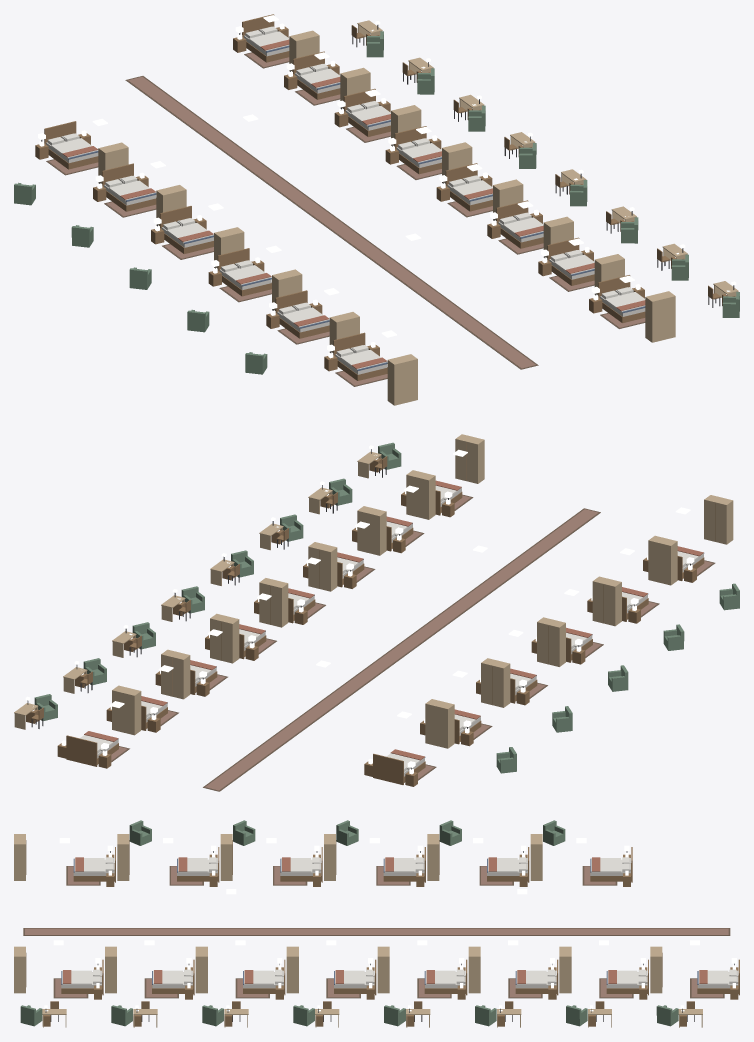
File: fine-s1.glb
3 renders of one model, top to bottom at view 1: azimuth 30°, elevation 25°; view 2: azimuth 150°, elevation 25°; view 3: azimuth 270°, elevation 25°, orthographic. The views are drawn at different scales.
Visible parts, largest first — view 1: soft-s1, dresser.005, dresser.013, bed-frame.000, bed-frame.004, bed-frame.005, bed-frame.003, bed-frame.001, bed-frame.002, bed-frame.006, bed-frame.013, bed-frame.012 (+17 smaller); view 2: soft-s1, dresser.003, dresser.004, dresser.005, dresser.000, dresser.001, dresser.002, dresser.008, dresser.007, dresser.010, dresser.011, dresser.013 (+5 smaller); view 3: soft-s1, dresser.007, dresser.006, dresser.008, dresser.009, dresser.010, dresser.011, dresser.000, dresser.001, dresser.003, dresser.004, dresser.013 (+30 smaller).
Part boxes in pixels (x1,y1,x2,y2): soft-s1: [38, 26, 645, 386]; dresser.005: [387, 354, 417, 405]; dresser.013: [645, 291, 675, 342]; bed-frame.000: [44, 121, 98, 169]; bed-frame.004: [275, 290, 329, 338]; bed-frame.005: [333, 332, 387, 380]; bed-frame.003: [217, 248, 271, 296]; bed-frame.001: [102, 163, 156, 211]; bed-frame.002: [160, 206, 213, 253]; bed-frame.006: [242, 14, 289, 62]; bed-frame.013: [598, 275, 645, 323]; bed-frame.012: [547, 237, 594, 285]; soft-s1: [80, 480, 715, 791]; dresser.003: [592, 576, 621, 626]; dresser.004: [648, 535, 677, 585]; dresser.005: [704, 495, 733, 544]; dresser.000: [425, 699, 454, 748]; dresser.001: [481, 658, 510, 707]; dresser.002: [537, 617, 565, 666]; dresser.008: [210, 613, 239, 663]; dresser.007: [161, 649, 190, 699]; dresser.010: [308, 542, 337, 591]; dresser.011: [357, 506, 386, 555]; dresser.013: [455, 434, 484, 483]; soft-s1: [23, 845, 737, 998]; dresser.007: [559, 946, 571, 993]; dresser.006: [650, 946, 662, 993]; dresser.008: [468, 946, 480, 993]; dresser.009: [377, 946, 389, 993]; dresser.010: [286, 946, 298, 993]; dresser.011: [195, 946, 207, 993]; dresser.000: [530, 834, 542, 880]; dresser.001: [427, 834, 439, 880]; dresser.003: [220, 834, 232, 880]; dresser.004: [117, 834, 129, 880]; dresser.013: [14, 946, 26, 993].
Bounding box in the file's own units: 22.35 × 2.23 × 35.87.
